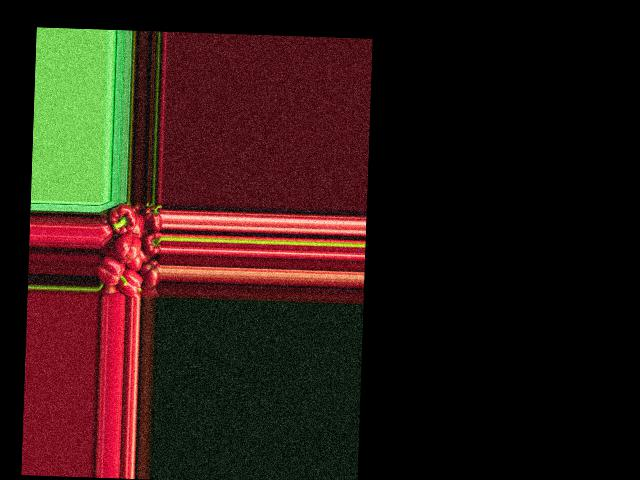bell_pepper: (143, 204, 162, 230)
